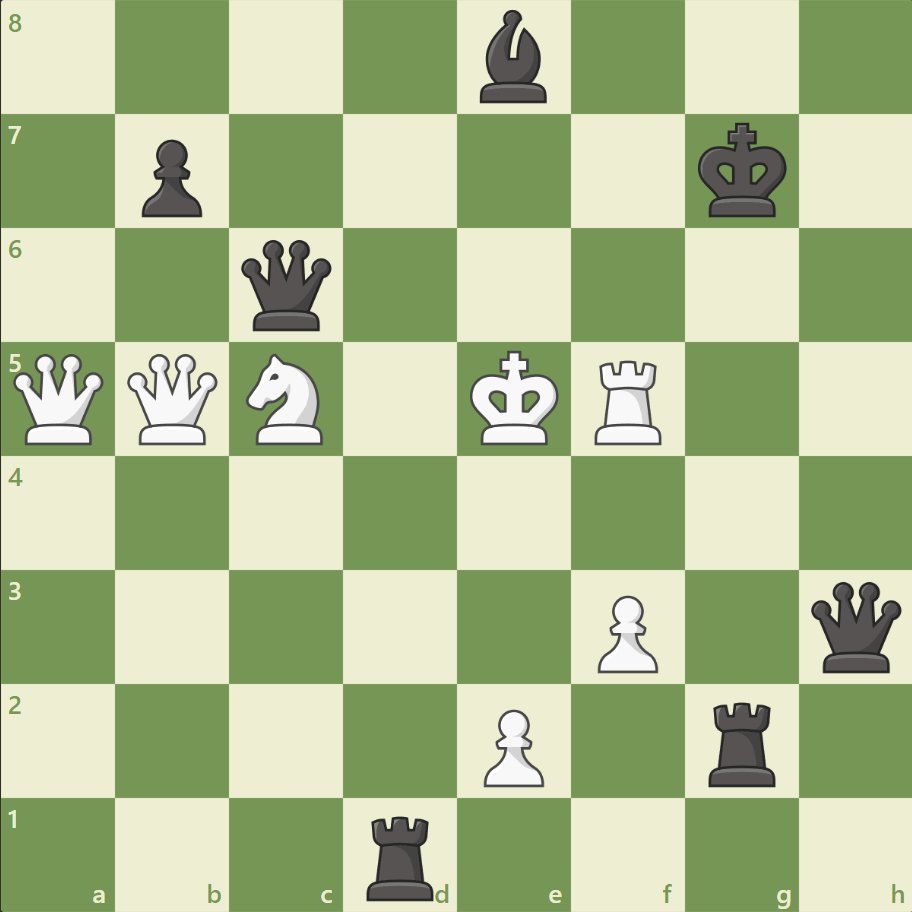K: (465, 344, 565, 452)
N: (238, 348, 335, 450)
P: (474, 700, 549, 791), (588, 586, 662, 677)
Q: (10, 349, 109, 449), (124, 349, 223, 449)
R: (587, 352, 670, 449)
b: (471, 6, 555, 109)
k: (692, 117, 792, 225)
p: (133, 132, 208, 223)
q: (805, 576, 904, 676), (237, 236, 336, 335)
r: (700, 693, 783, 790), (360, 806, 442, 904)
